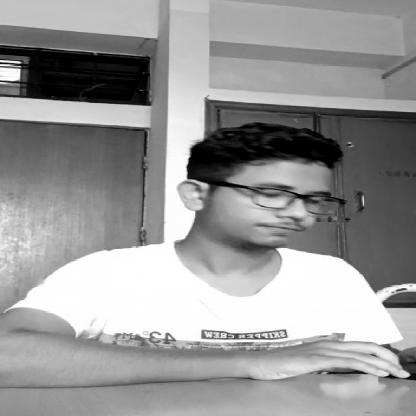Distracted: (195, 142, 342, 253)
